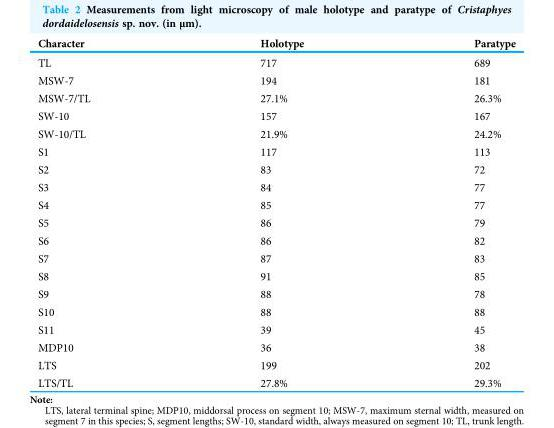table: (37, 36, 514, 388)
table column: (174, 36, 388, 388), (37, 36, 174, 388), (388, 36, 514, 388)
table column header: (37, 36, 514, 52)
table row: (37, 52, 514, 71), (37, 88, 514, 106), (37, 106, 514, 124), (37, 124, 514, 142), (37, 142, 514, 160), (37, 177, 514, 195), (37, 195, 514, 213), (37, 213, 514, 231), (37, 231, 514, 249), (37, 266, 514, 284), (37, 284, 514, 302), (37, 302, 514, 320), (37, 320, 514, 338), (37, 355, 514, 373), (37, 71, 514, 88), (37, 160, 514, 177), (37, 249, 514, 266), (37, 338, 514, 355), (37, 36, 514, 52), (37, 373, 514, 388)
